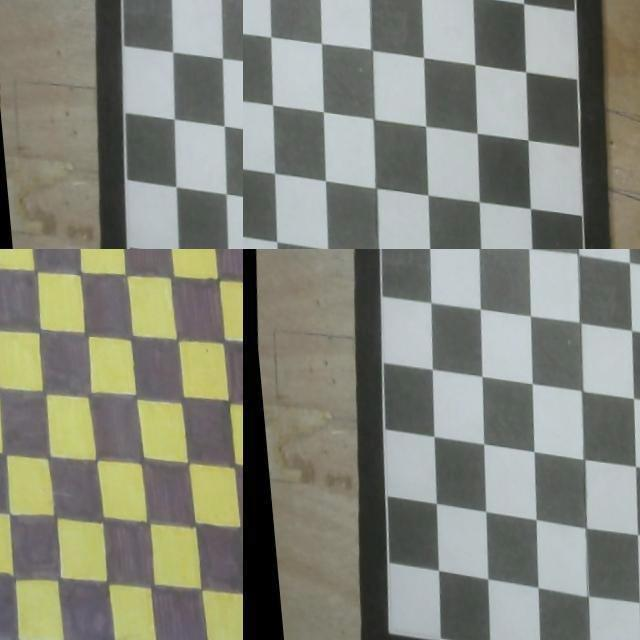chess-table-corners: (373, 622, 384, 636), (370, 249, 380, 255), (112, 0, 119, 4), (568, 0, 574, 4), (0, 249, 3, 252), (0, 629, 1, 635)
